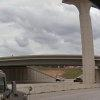Bridge: (4, 42, 98, 85)
